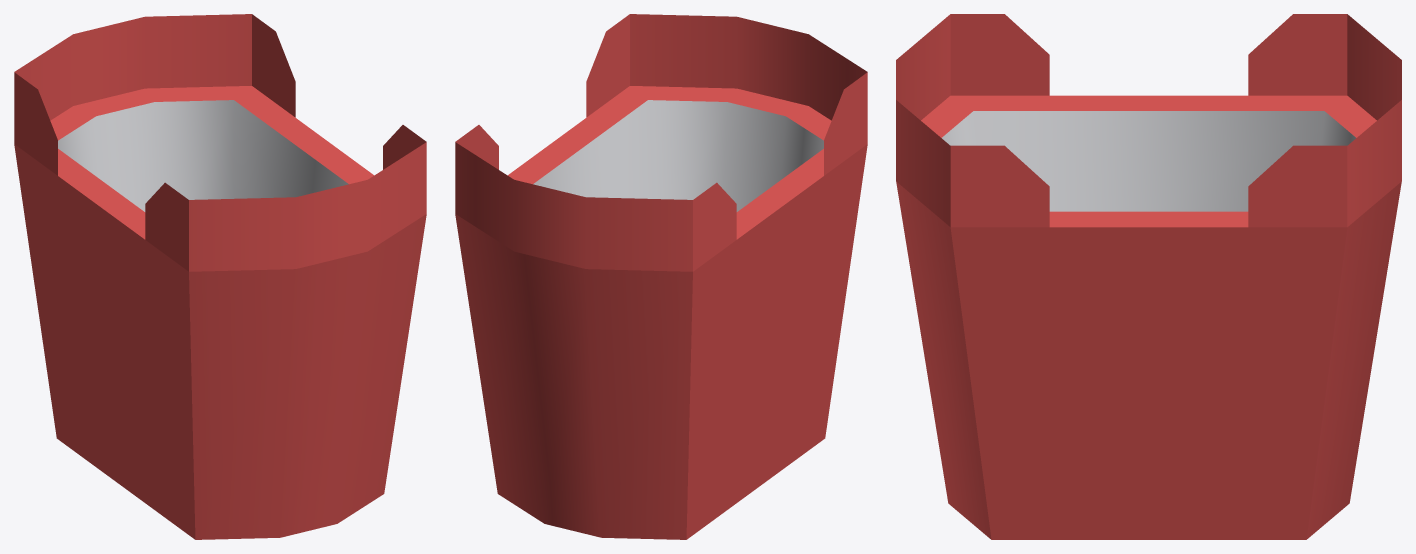
The model's file is friesEmpty.GLB.
3 views of the same model, side by side, from view 1: azimuth 30°, elevation 25°; view 2: azimuth 150°, elevation 25°; view 3: azimuth 270°, elevation 25° (orthographic). The views are drawn at different scales.
Parts seen in each view (by area): view 1: friesEmpty; view 2: friesEmpty; view 3: friesEmpty.
Part boxes in pixels (x1,y1,x2,y2): friesEmpty: [14, 14, 426, 539]; friesEmpty: [455, 14, 867, 539]; friesEmpty: [896, 14, 1401, 539].
Size of the model in its own units: 0.1635 by 0.236 by 0.2653.
